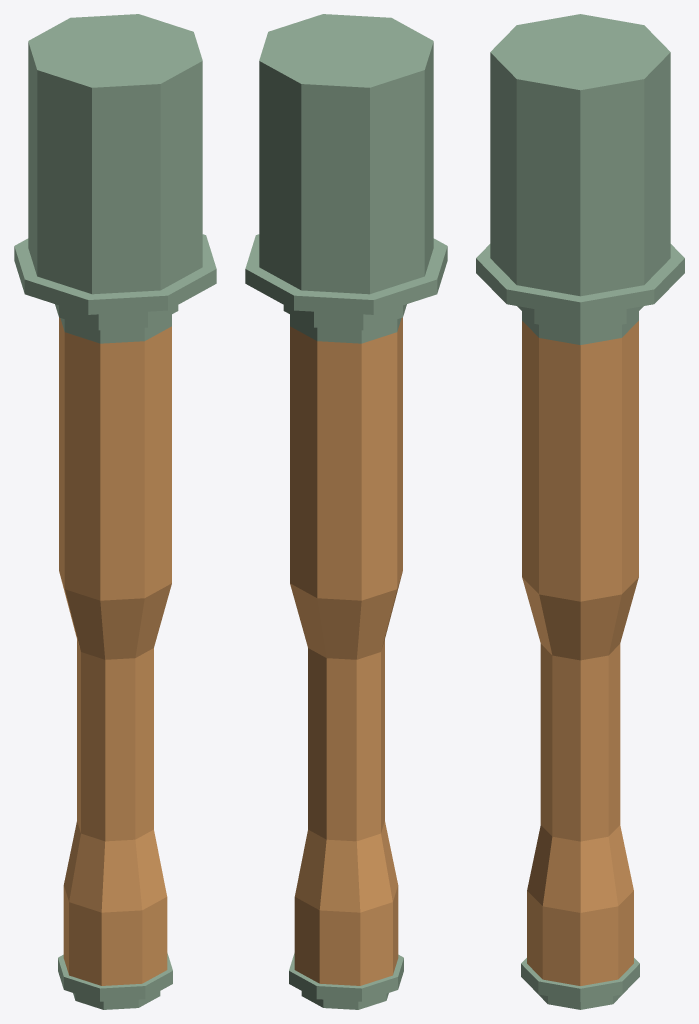
The picture shows the model from 3 angles, left to right: view 1: azimuth 30°, elevation 25°; view 2: azimuth 150°, elevation 25°; view 3: azimuth 270°, elevation 25°; orthographic projection.
Parts seen in each view (by area): view 1: stick-grenade; view 2: stick-grenade; view 3: stick-grenade.
Boxes of the visible parts, box(x1,y1,x2,y2) form: stick-grenade: box(14, 14, 216, 1009); stick-grenade: box(245, 14, 447, 1009); stick-grenade: box(476, 14, 684, 1009).
Size of the model in its own units: 0.0726 by 0.3597 by 0.0726.
